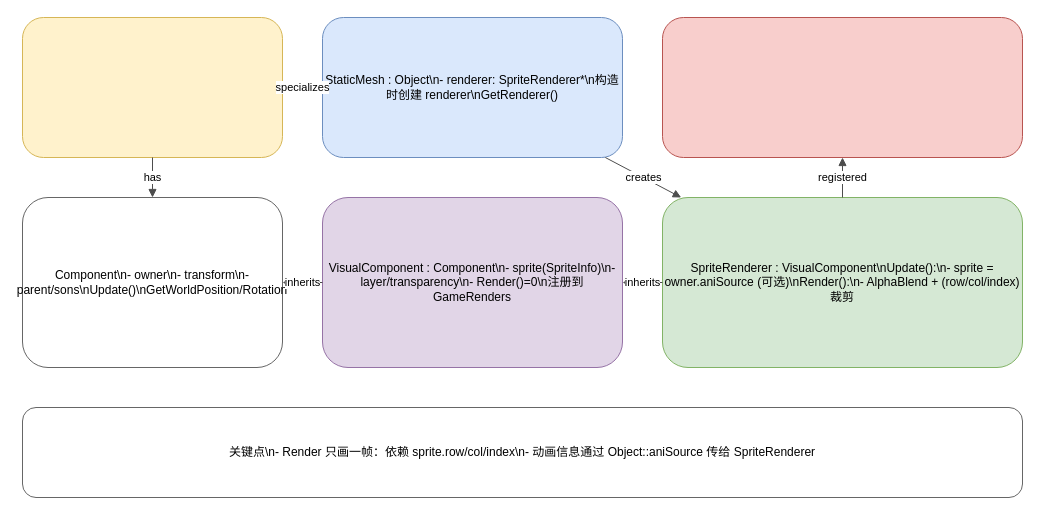
This 1040x515 diagram has some shape labels left out. The shapes that lost their labels are listed below. From the top down, each one's box as (x1, y1, x2, y2) in pixels, then its label:
(22, 16, 282, 158): Object\n- root: Component\n- parent/sons\n- aniSource (SpriteInfo)\nUpdate()
(662, 16, 1022, 158): Global sets (Overall.h)\nGameObjects / GameComponents\nGameRenders (sorted)
